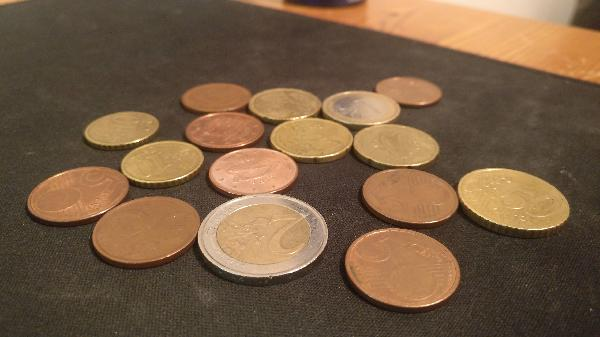Fifty Cent: (453, 165, 574, 238)
Five Cent: (349, 225, 460, 309), (95, 196, 197, 271), (29, 165, 130, 225), (356, 166, 459, 224), (208, 145, 299, 196), (188, 112, 262, 150), (179, 81, 250, 115), (377, 76, 442, 109)
One Euro: (322, 90, 405, 124)
Ten Cent: (123, 140, 203, 189), (84, 112, 156, 145)
Twenty Cent: (354, 121, 440, 170), (273, 115, 354, 163), (251, 84, 324, 123)
Two Euro: (200, 191, 330, 282)
